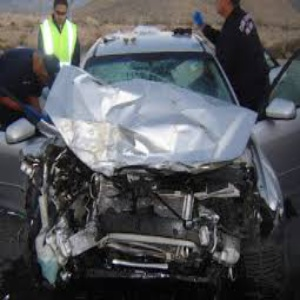bonnet: (48, 71, 255, 169)
bumper: (37, 179, 241, 282)
